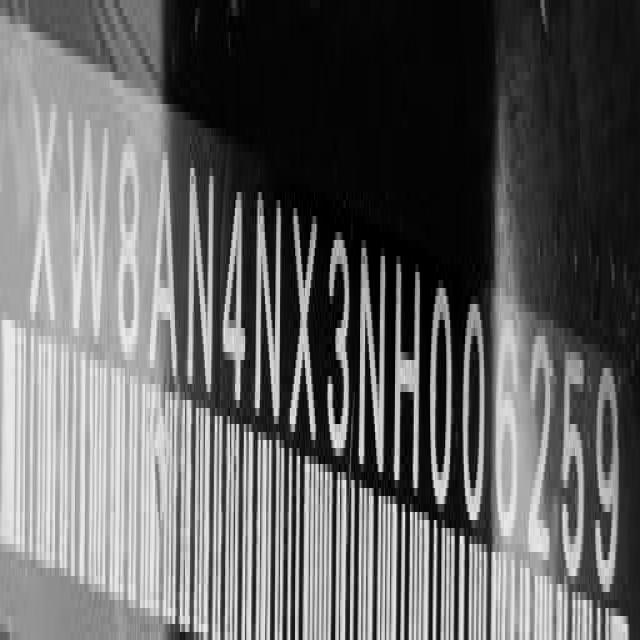0: (428, 263, 453, 525), (460, 295, 486, 525)
2: (526, 317, 554, 569)
3: (328, 218, 355, 473)
4: (219, 173, 246, 413)
5: (562, 340, 586, 588)
6: (493, 314, 521, 541)
8: (116, 135, 143, 365)
9: (595, 361, 622, 605)
A: (147, 135, 179, 389)
H: (394, 250, 422, 509)
N: (252, 163, 286, 429), (185, 160, 217, 393), (359, 228, 386, 492)
W: (67, 96, 111, 361)
X: (27, 74, 59, 321), (289, 199, 319, 461)
